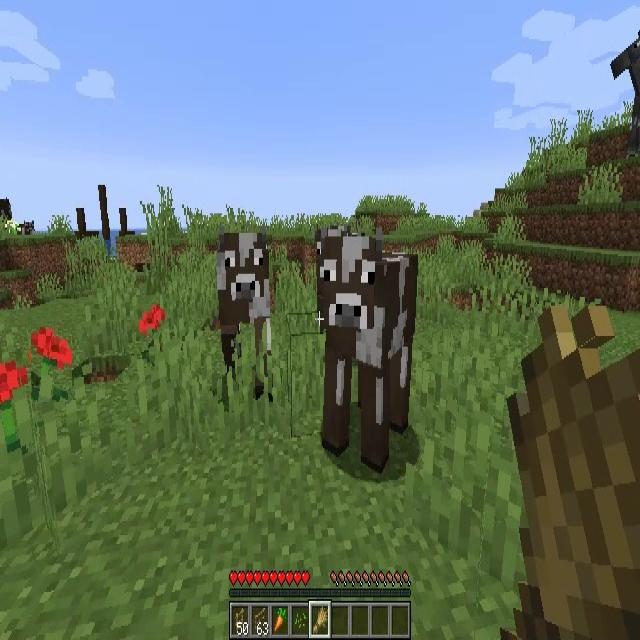cow: (322, 243, 416, 467), (217, 235, 270, 399)
flower: (31, 327, 72, 402)
